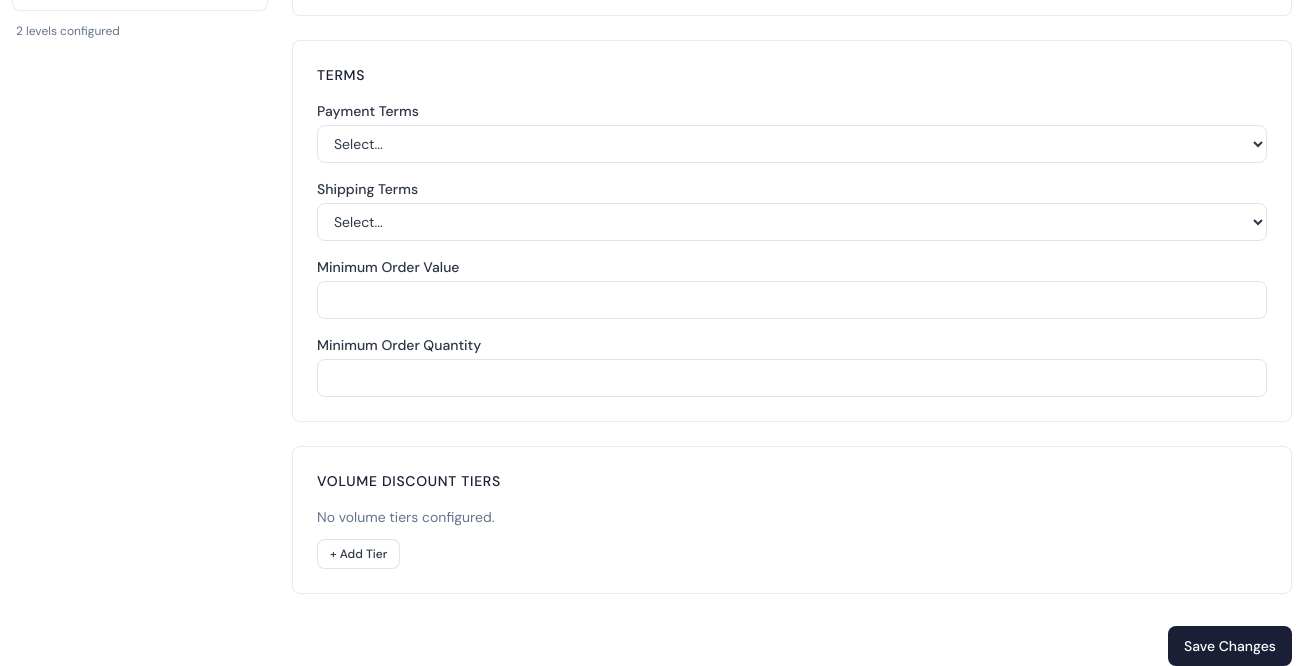
PricingPage — save and reset report the response (SEC-web-account-2-04) › Save: a request that never reaches the server says so and claims nothing saved
(page scrolled)
Click the button "Save Changes" at (1230, 646), box left=1168, top=626, right=1292, bottom=665
(page scrolled)
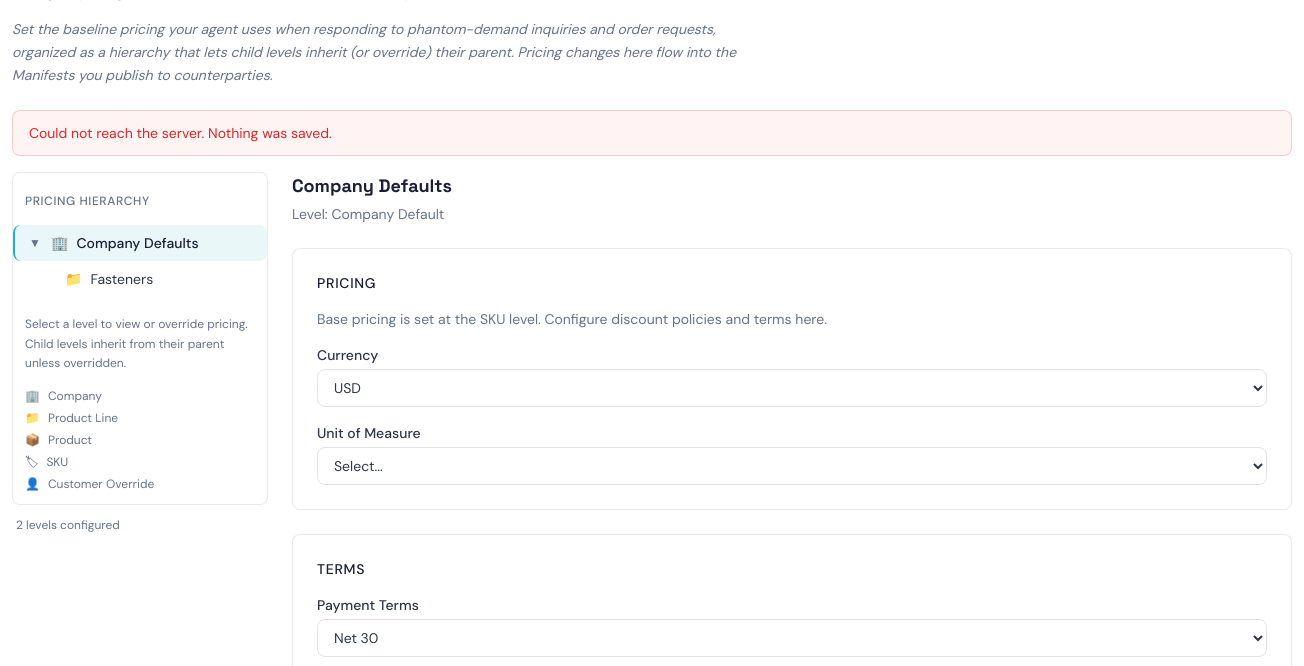
Check: the message shows "Could not reach the server", box left=29, top=124, right=332, bottom=142
